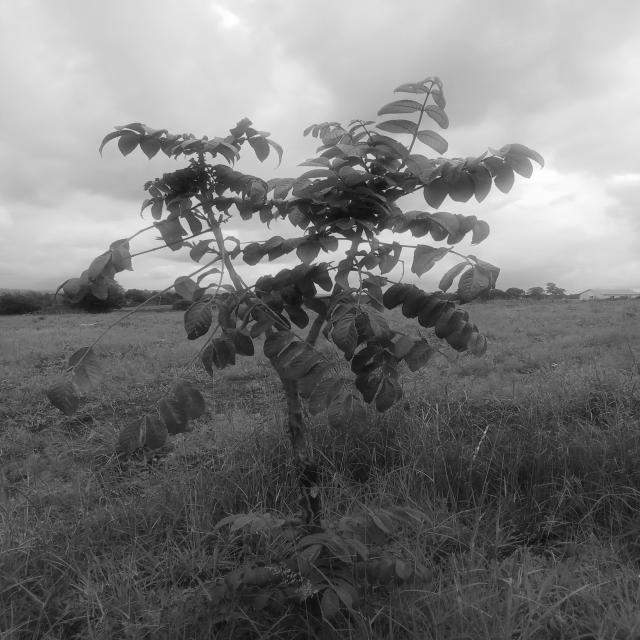Polyscias Kikuyensis: (57, 84, 539, 610)
